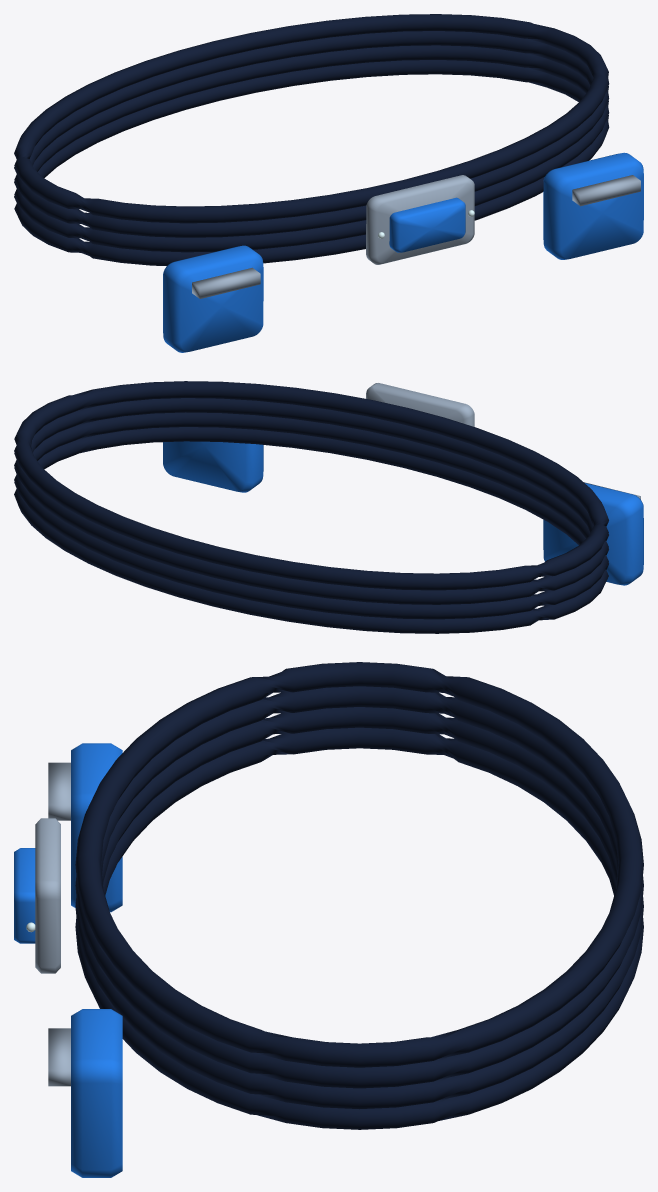
File: nova_utility_belt.glb
3 views of the same model, one above another, from view 1: azimuth 30°, elevation 25°; view 2: azimuth 150°, elevation 25°; view 3: azimuth 270°, elevation 25° (orthographic). The views are drawn at different scales.
Visible parts, largest first — view 1: nova_utility_belt_dark, nova_utility_belt_accent, nova_utility_belt_metal; view 2: nova_utility_belt_dark, nova_utility_belt_accent, nova_utility_belt_metal; view 3: nova_utility_belt_dark, nova_utility_belt_accent, nova_utility_belt_metal.
Boxes of the visible parts, x1,y1,x2,y2 form: nova_utility_belt_dark: [14, 14, 609, 265]; nova_utility_belt_accent: [163, 152, 643, 352]; nova_utility_belt_metal: [192, 175, 640, 298]; nova_utility_belt_dark: [14, 381, 608, 633]; nova_utility_belt_accent: [163, 441, 643, 585]; nova_utility_belt_metal: [366, 383, 640, 499]; nova_utility_belt_dark: [75, 662, 643, 1129]; nova_utility_belt_accent: [14, 743, 122, 1177]; nova_utility_belt_metal: [35, 762, 70, 1086].
Bounding box in the file's own units: 0.325 × 0.066 × 0.2205.
